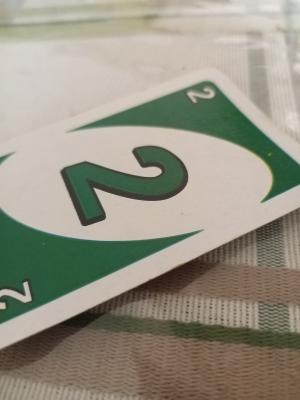green: (7, 113, 242, 275)
num_2: (0, 273, 35, 309), (186, 85, 219, 107)
